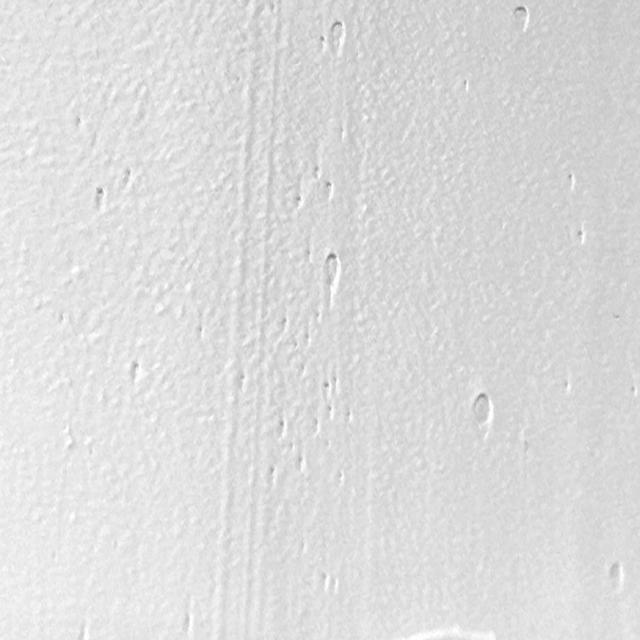pin holes: (468, 389, 496, 434), (320, 251, 343, 293), (325, 19, 349, 53), (509, 2, 532, 32), (604, 561, 626, 592), (90, 185, 110, 213), (127, 360, 145, 385), (315, 572, 334, 594), (559, 376, 577, 398), (265, 461, 280, 487), (563, 171, 579, 195), (273, 417, 289, 439), (574, 227, 590, 248), (122, 164, 137, 186), (334, 462, 346, 486), (295, 457, 308, 477), (73, 115, 88, 132), (324, 181, 336, 200), (320, 378, 332, 397), (294, 193, 306, 210), (324, 404, 336, 421), (461, 79, 473, 96), (344, 404, 354, 423), (311, 165, 322, 181), (280, 314, 288, 336), (628, 384, 638, 400), (312, 417, 320, 436), (299, 364, 307, 380)
